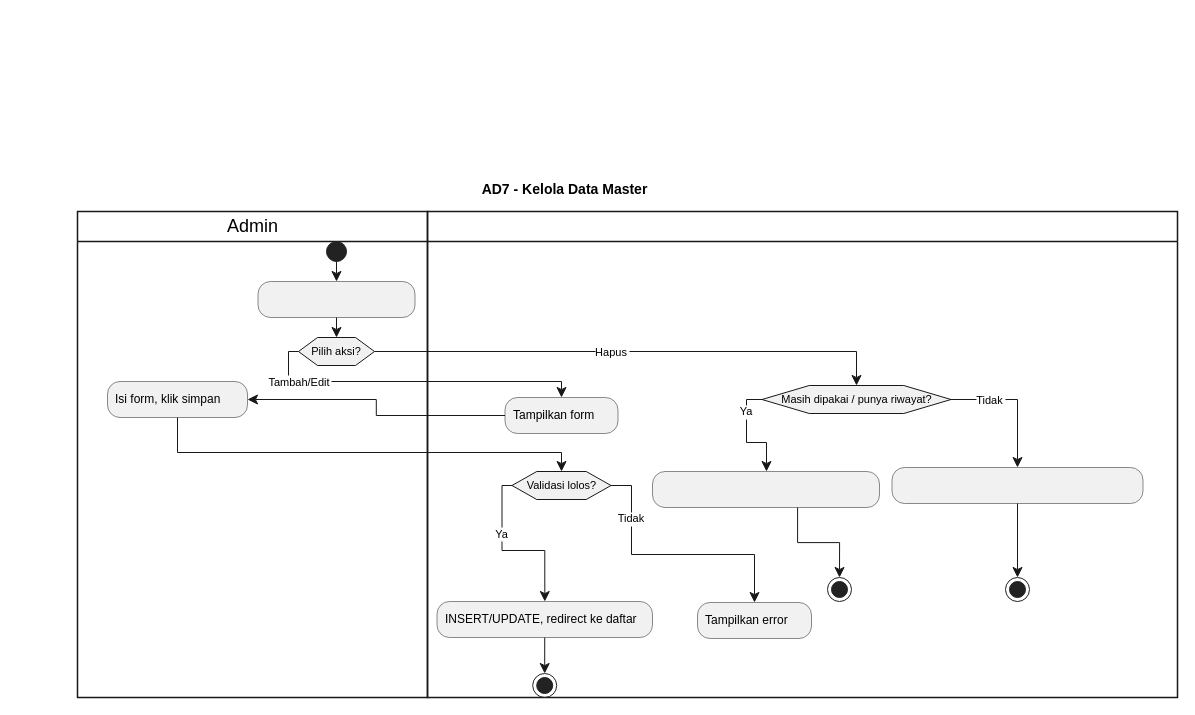
Some shapes in this 1195 by 715 pixel diagram are drawn without their labels. The box of each missing label's shape, as (x1, y1, x2, y2) in pixels:
Buka menu data master: (257, 281, 415, 317)
DELETE record, tampilkan pesan sukses: (891, 467, 1143, 503)
System: (426, 210, 1178, 698)
Tolak hapus, tampilkan pesan error: (652, 471, 879, 507)
